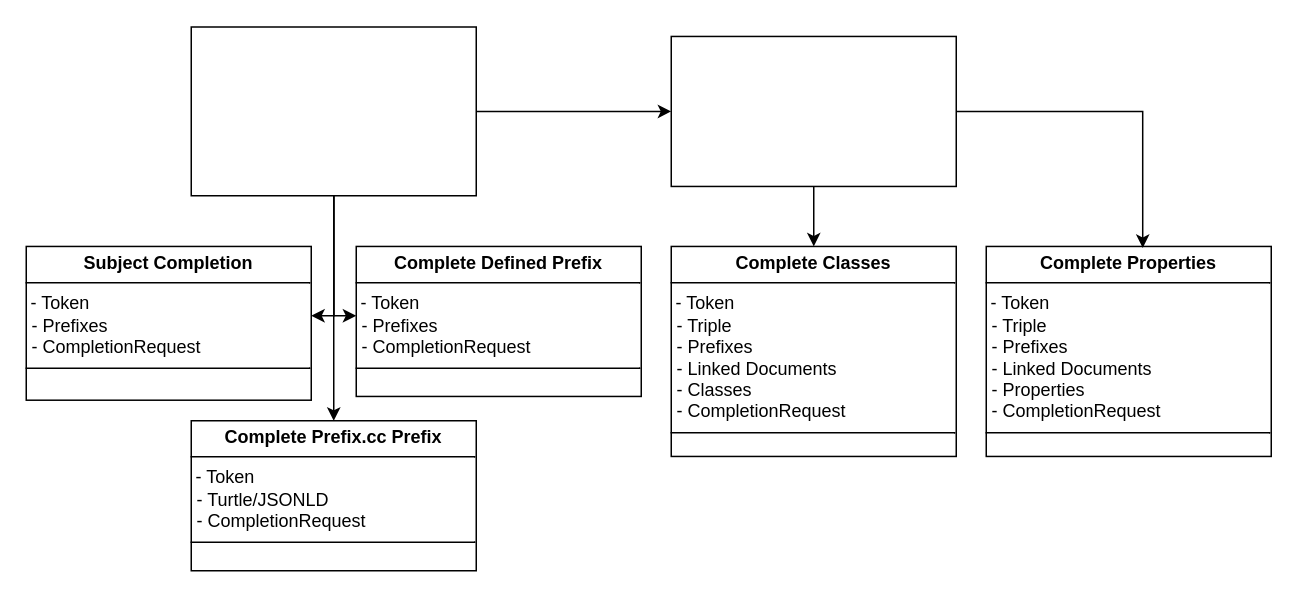
Image size: 1298x597. Some labels were removed from this diagram. The shapes that lost their labels are listed below. From the top down, each one's box as (x1, y1, x2, y2) in pixels, then its label:
(190, 26, 476, 196): GetCurrentToken - Tokens - PositionComponent - DynLang + Token
(670, 35, 956, 186): GetCurrentTriple - Triples - Token + Triple
